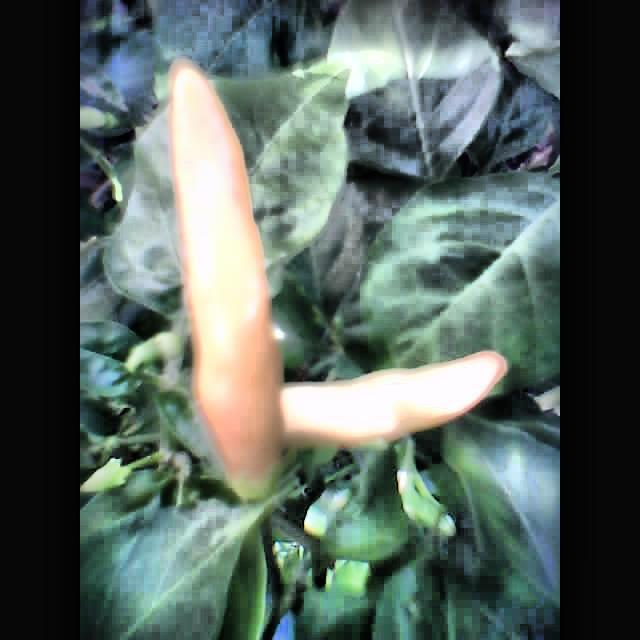Cabai: (164, 49, 300, 501), (282, 345, 516, 439)
